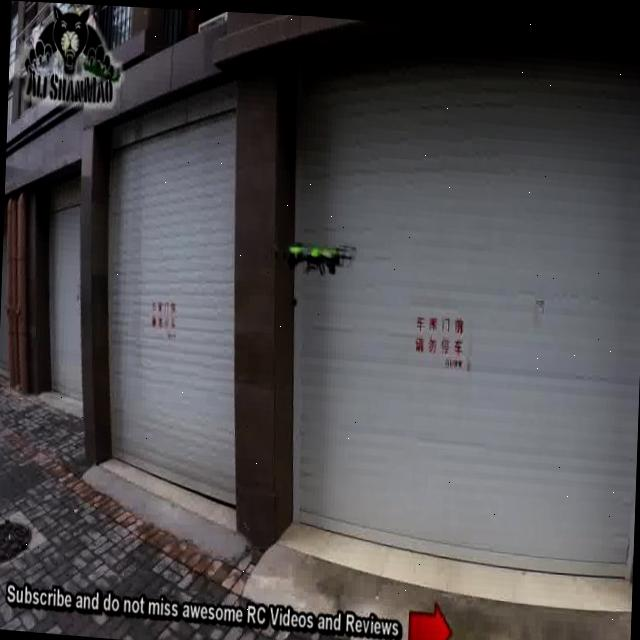drone: (276, 227, 360, 287)
